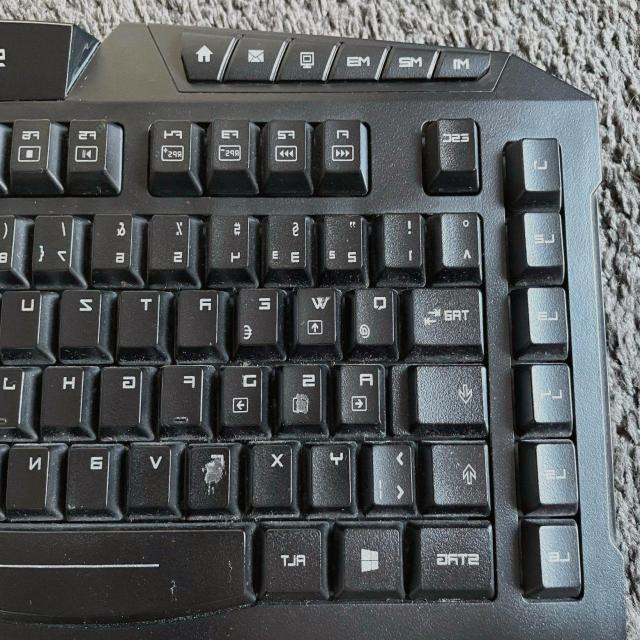1: (382, 210, 426, 269)
2: (321, 211, 367, 275)
3: (265, 212, 313, 273)
4: (208, 211, 255, 272)
5: (148, 210, 194, 274)
6: (91, 209, 138, 275)
7: (32, 212, 77, 276)
8: (0, 211, 18, 272)
a: (338, 359, 388, 427)
alt-left: (261, 526, 327, 596)
b: (66, 440, 115, 511)
c: (186, 441, 234, 511)
caret: (441, 208, 484, 269)
d: (219, 362, 268, 430)
e: (237, 284, 282, 346)
f: (160, 359, 208, 429)
g: (100, 362, 147, 428)
h: (41, 361, 89, 428)
j: (0, 362, 27, 427)
keyboard: (0, 79, 556, 627)
less: (372, 438, 418, 508)
n: (6, 440, 53, 511)
q: (353, 285, 400, 348)
r: (177, 285, 222, 348)
s: (280, 360, 328, 427)
shift-left: (429, 438, 494, 510)
shift-lock: (413, 361, 491, 429)
space: (1, 522, 257, 604)
strg-left: (414, 522, 498, 592)
t: (118, 286, 162, 348)
tab: (409, 283, 487, 349)
u: (0, 286, 44, 349)
v: (127, 439, 175, 509)
w: (295, 282, 341, 346)
x: (250, 438, 297, 508)
y: (309, 439, 356, 509)
z: (59, 284, 105, 348)
